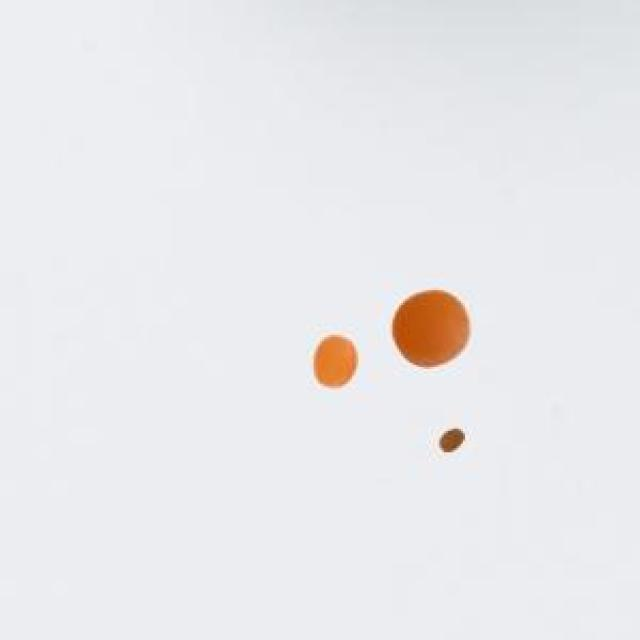Bactidol: (380, 266, 479, 385), (301, 316, 365, 406), (432, 419, 476, 466)
